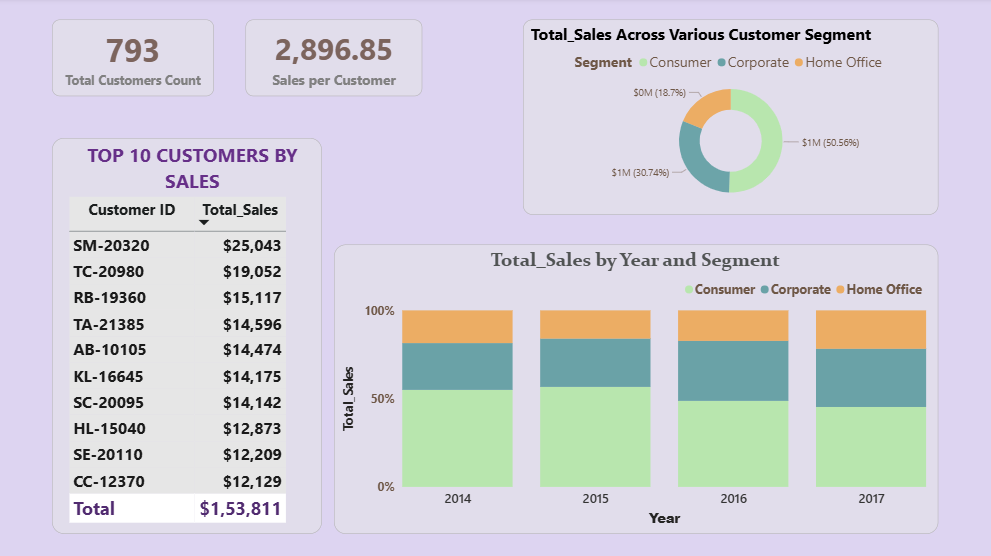

This screenshot's page, from the dashboard's own definition file:
{"tool":"powerbi","page":{"name":"Customer Analysis","canvas":[1280,720],"ordinal":2},"visuals":[{"type":"tableEx","title":"TOP 10 CUSTOMERS BY SALES","fields":{"Values":["Dim_Customer.Customer ID","Measures_table.Total_Sales"]},"box":[94.5,177.6,340.2,498.9],"z":0},{"type":"card","fields":{"Values":["Measures_table.Total Customers Count"]},"box":[94.5,28.3,204.1,96.4],"z":1000},{"type":"card","fields":{"Values":["Measures_table.Sales per Customer"]},"box":[338.3,28.3,223,96.4],"z":2000},{"type":"hundredPercentStackedColumnChart","fields":{"Category":["Dim_Date.Year"],"Series":["Dim_Customer.Segment"],"Y":["Measures_table.Total_Sales"]},"box":[449.8,311.8,761.6,364.7],"z":3000},{"type":"donutChart","title":"Total_Sales Across Various Customer Segment","fields":{"Y":["Measures_table.Total_Sales"],"Category":["Dim_Customer.Segment"]},"box":[687.9,28.3,523.5,245.7],"z":5000}]}

Visuals, with their boxes in screenshot pixels (x1, y1, x2, y2), scaled from the page's 1280x720 canvas onto the 991x556 screenshot:
"TOP 10 CUSTOMERS BY SALES" tableEx: bbox=[73, 137, 337, 522]
card - Measures_table.Total Customers Count: bbox=[73, 22, 231, 96]
card - Measures_table.Sales per Customer: bbox=[262, 22, 435, 96]
hundredPercentStackedColumnChart - Dim_Date.Year x Dim_Customer.Segment: bbox=[348, 241, 938, 522]
"Total_Sales Across Various Customer Segment" donutChart: bbox=[533, 22, 938, 212]
